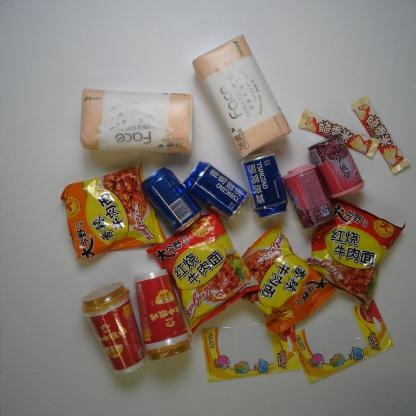Alcohol: (182, 159, 250, 222), (239, 149, 289, 219)
Canned Food: (306, 132, 366, 199), (280, 162, 334, 230)
Chocolate: (350, 94, 412, 176), (297, 108, 381, 160)
Drink: (141, 165, 203, 234)
Instant Drink: (79, 280, 148, 377), (132, 267, 193, 361)
Instant Noodles: (145, 204, 264, 334), (304, 198, 407, 311), (241, 221, 337, 335), (60, 164, 169, 261)
Stationery: (295, 298, 397, 385), (199, 323, 303, 384)
Tissue: (191, 33, 293, 159), (77, 86, 197, 158)
